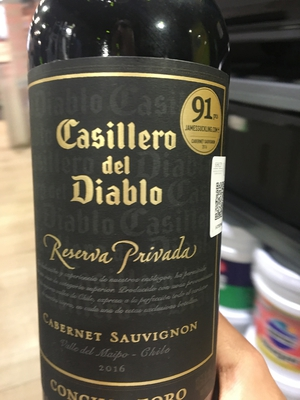casillero del diablo reserva privada cabernet sauvignon: (29, 14, 237, 400)
